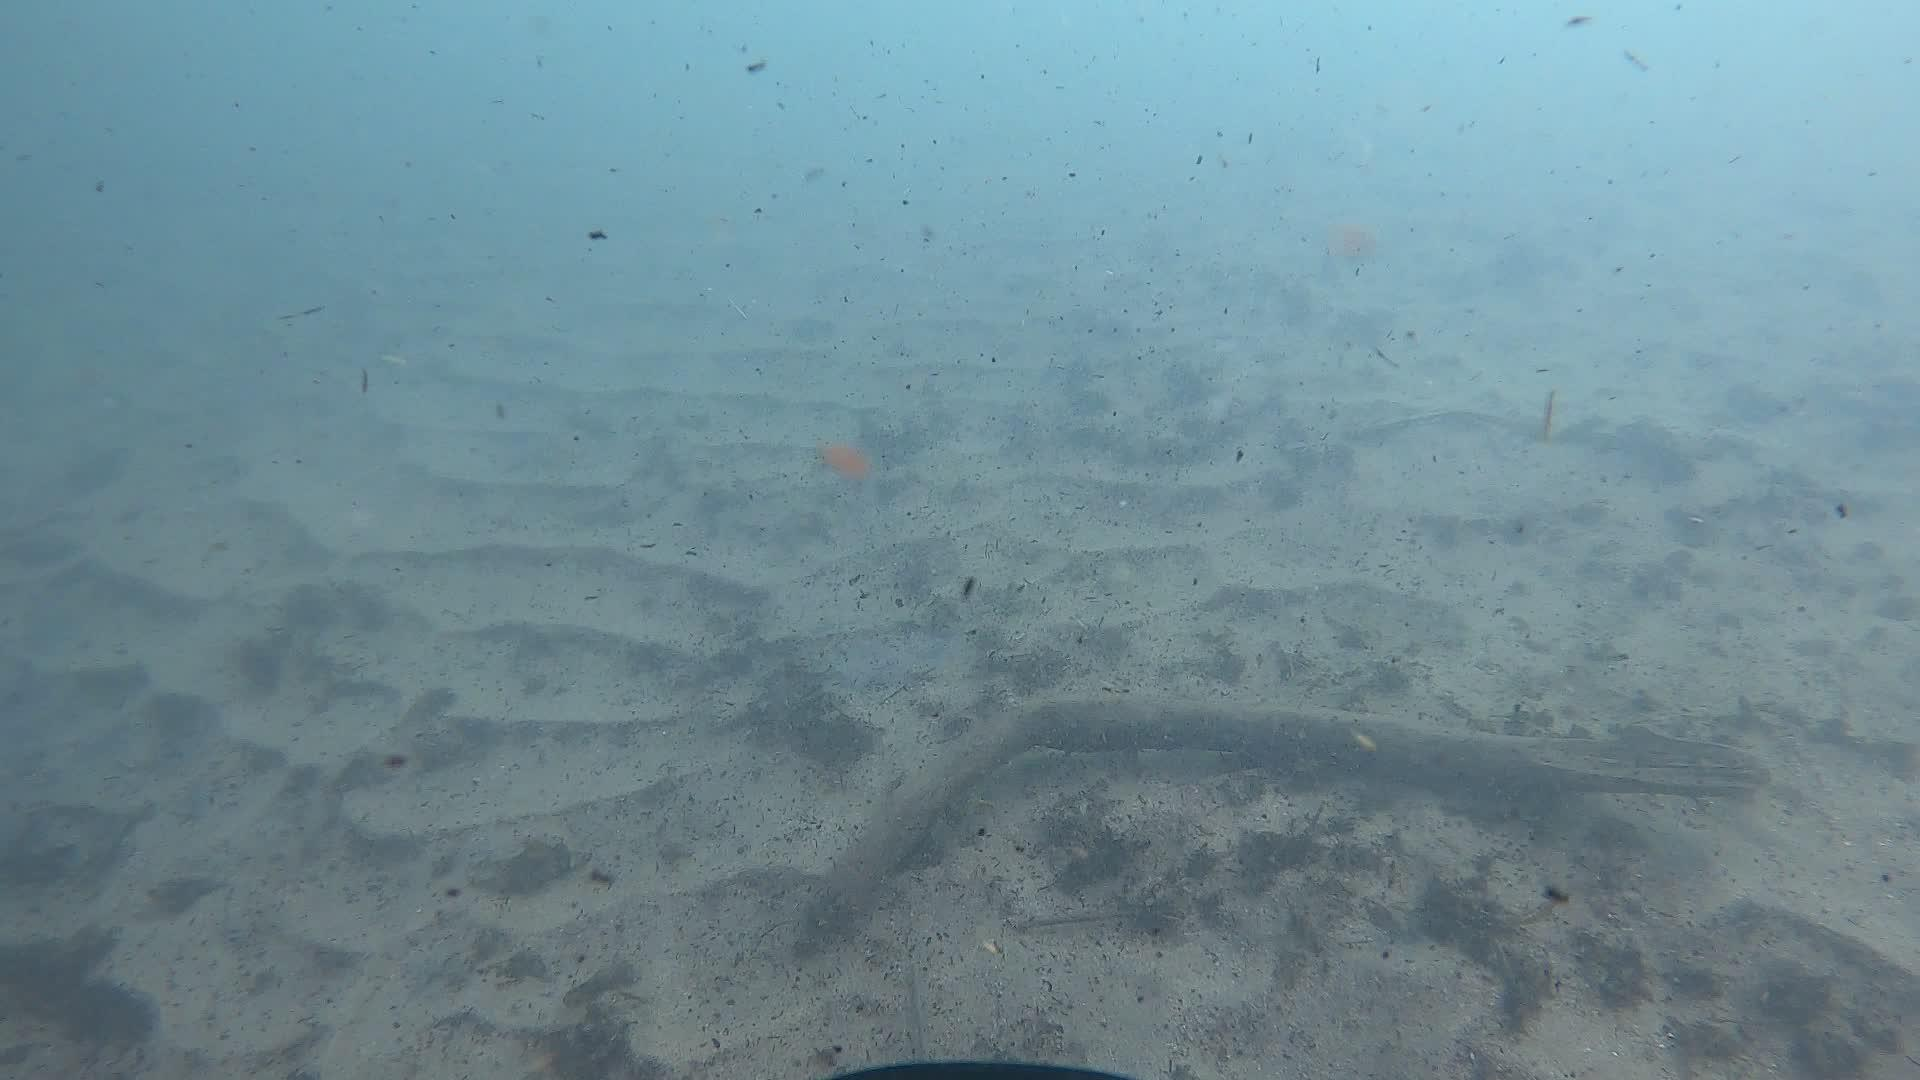wood: (800, 684, 1767, 934)
